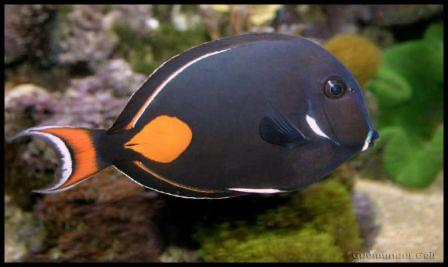Acanthuridae -Surgeonfishes-: (16, 28, 382, 200)
